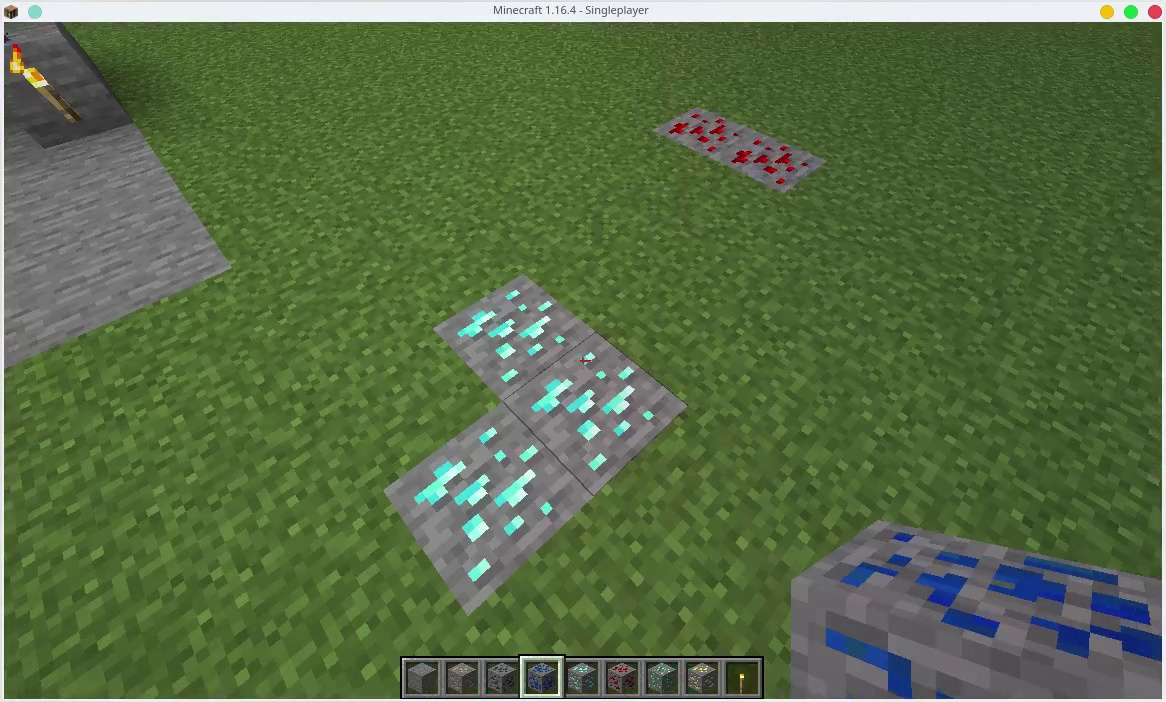gold: (689, 661, 718, 692)
